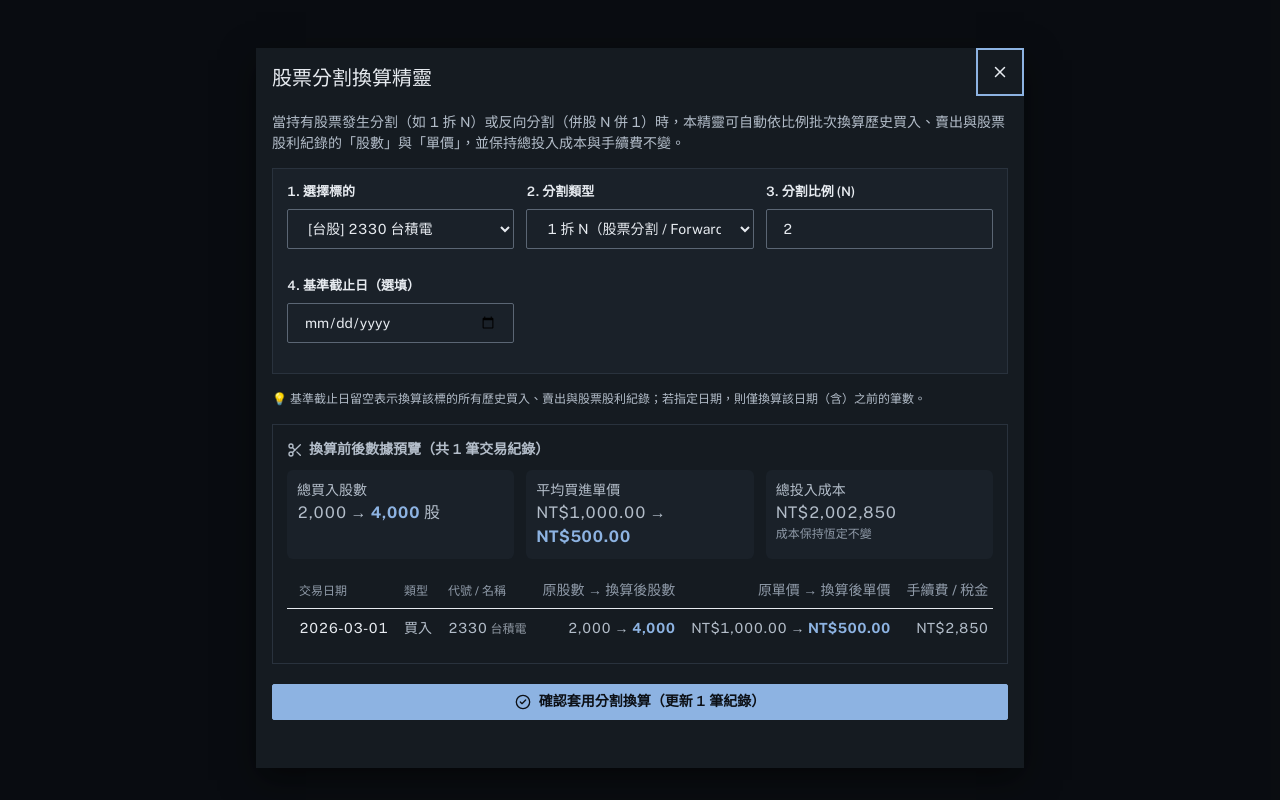
StockSplitModal (股票分割換算精靈) › 無效分割比例時提示警告並禁用確認按鈕
This screenshot has width=1280, height=800.
Replace the text in the number field labelled "分割比例" with "0". click: (879, 229)
box: [766, 209, 993, 249]
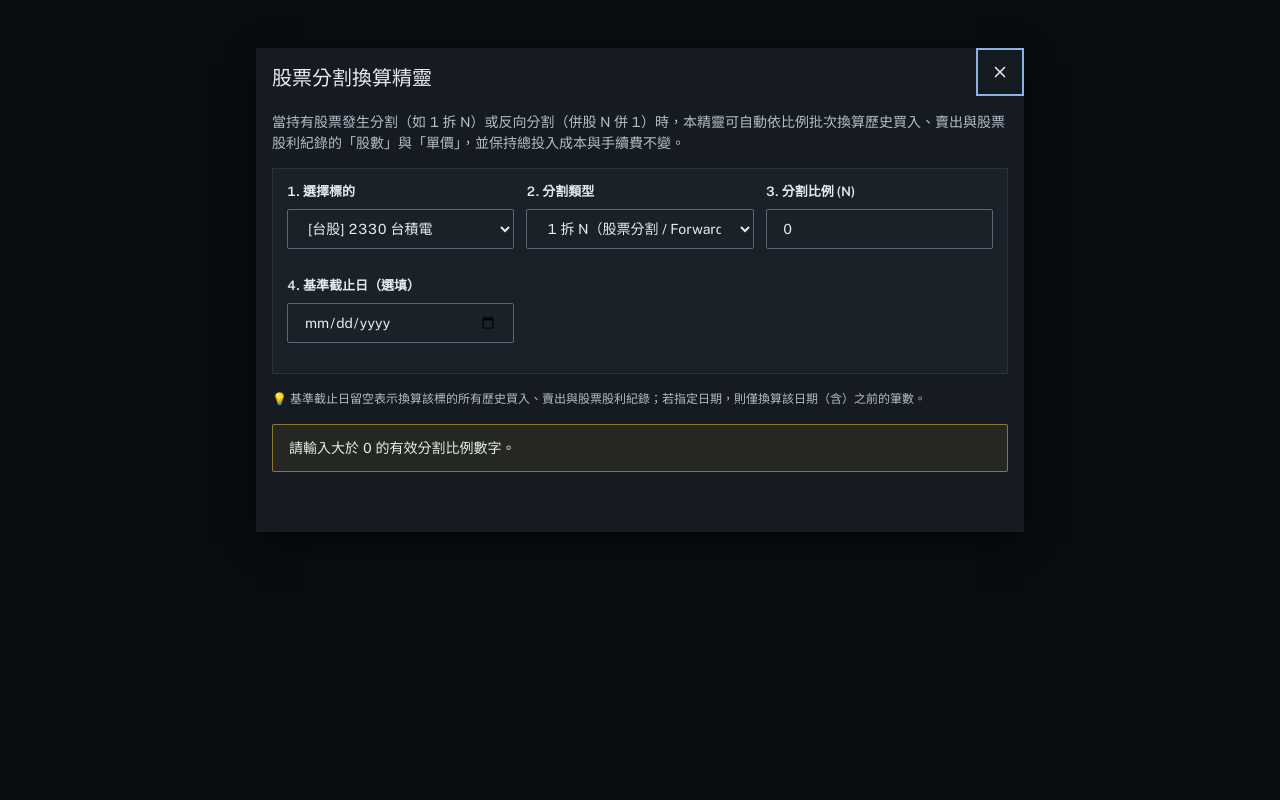
Check: the text "請輸入大於 0 的有效分割比例數字。" is shown, box [272, 424, 1008, 472]
Check: the button "確認套用分割換算" is gone
